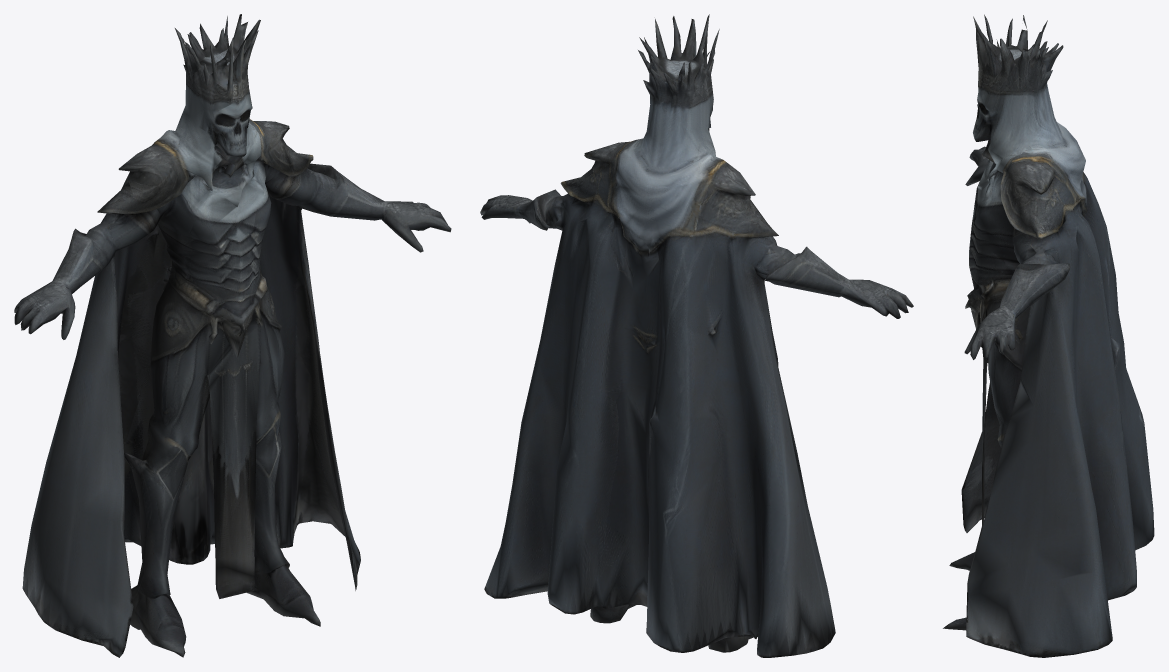
The model's file is ash_crown.glb.
3 views of the same model, side by side, from view 1: azimuth 30°, elevation 25°; view 2: azimuth 150°, elevation 25°; view 3: azimuth 270°, elevation 25° (orthographic). The views are drawn at different scales.
Size of the model in its own units: 1.5 by 2 by 0.6618.
Materials: 1 (1 with a texture image).
